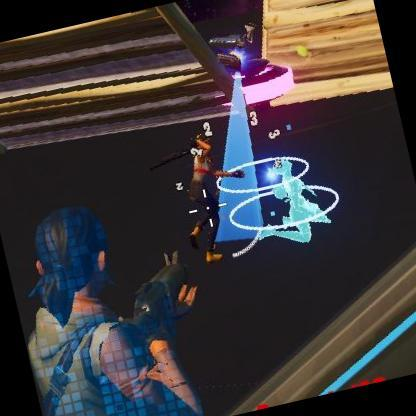person: (174, 128, 236, 253)
